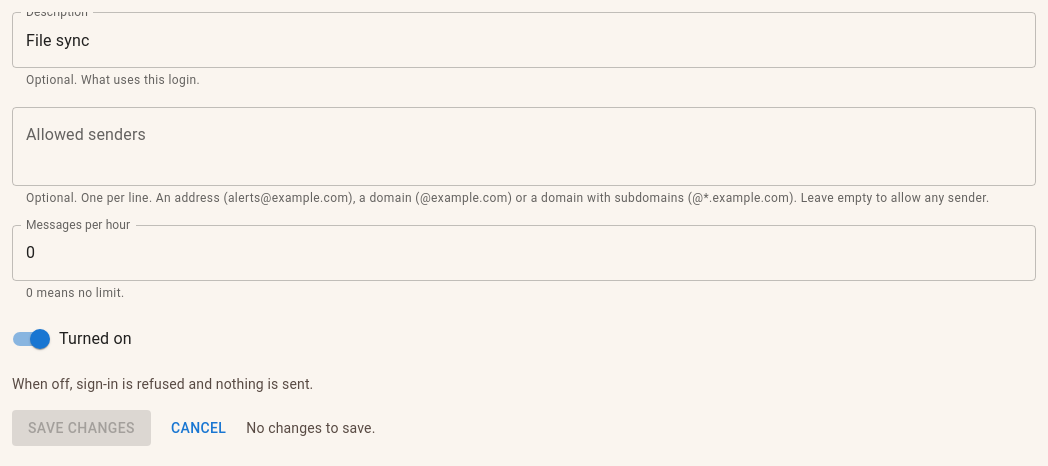
Scenario: LoginForm › disables submit until something changes, in edit mode
Expected: the button "Save changes" is disabled, [12, 410, 151, 446]
Expected: the text "No changes to save." is shown, [246, 418, 376, 438]
Step 1. Type "!" into the field labelled "Description" → coordinates (524, 40), box [12, 12, 1036, 68]
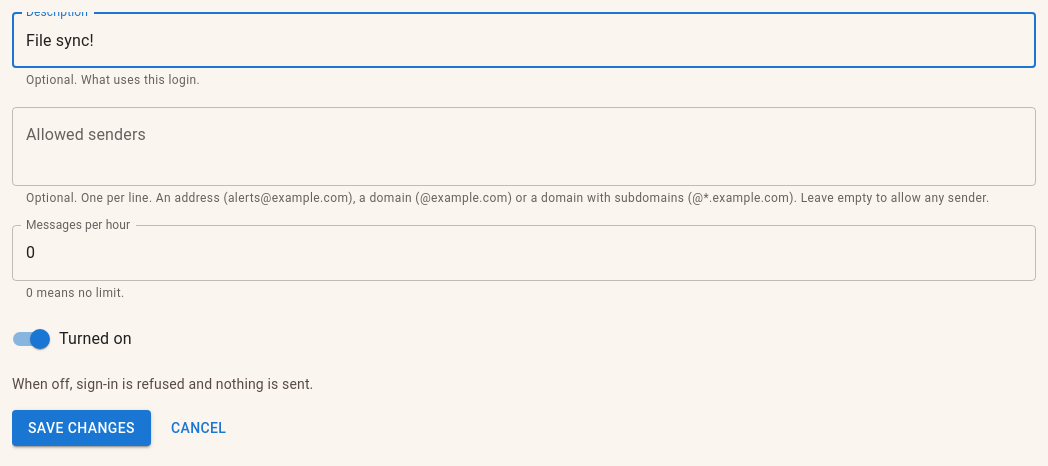
Now the button "Save changes" is enabled, box [12, 410, 151, 446]
